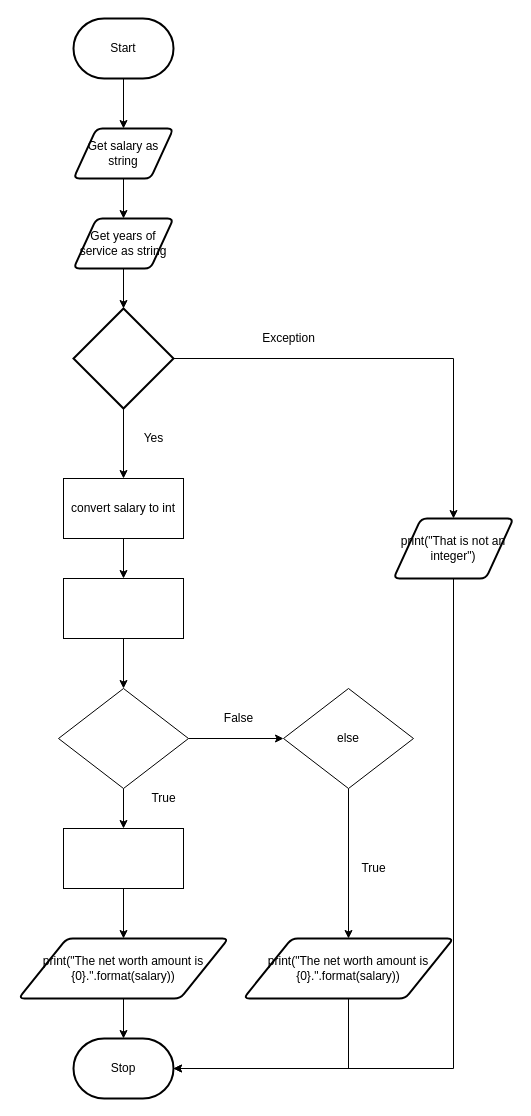
This 531x1116 diagram has some shape labels left out. Each missing label, with the centre of its shape:
"convert years of service to int" goes at (x=123, y=608).
"if years of service > 5" goes at (x=123, y=738).
"salary = salary * 1.05" goes at (x=123, y=858).
"try" goes at (x=123, y=358).
